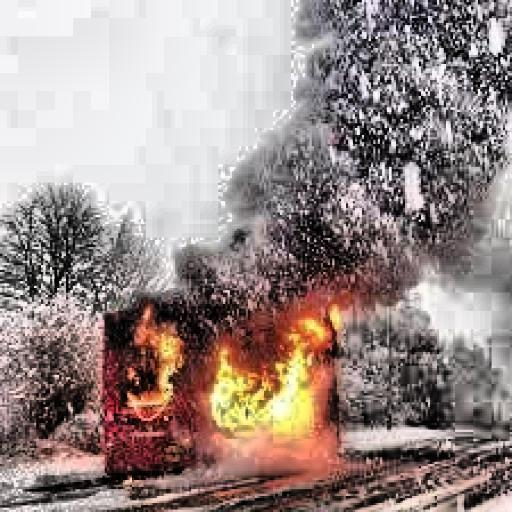fire: (112, 292, 358, 444)
